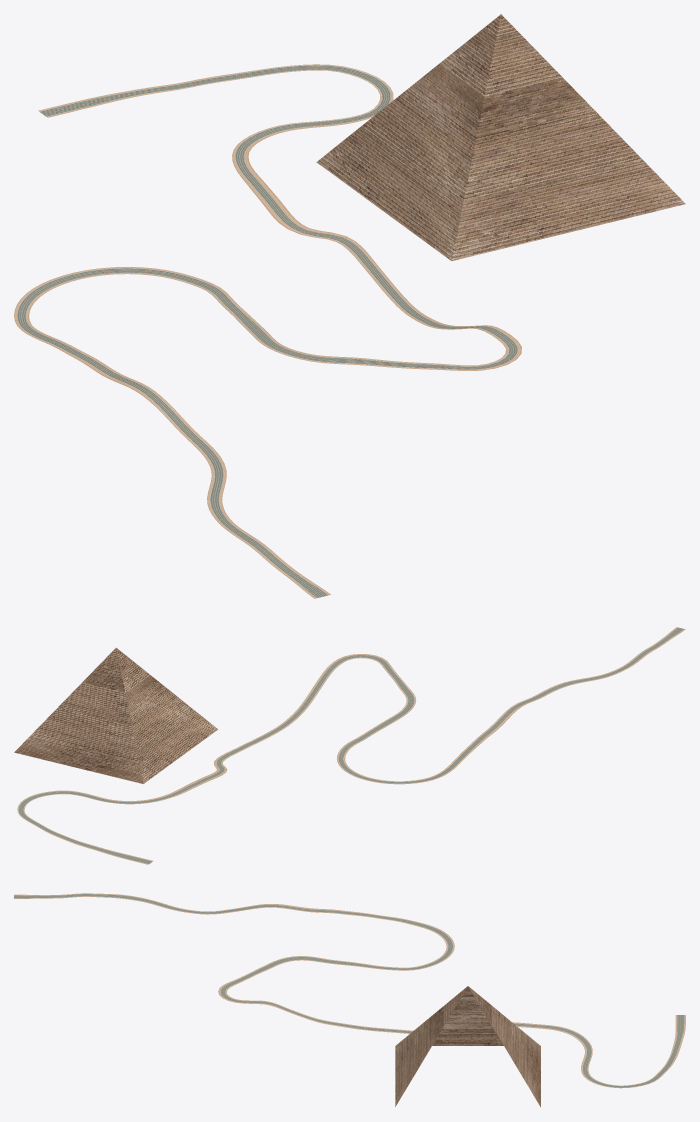
The model's file is stage-dese-env.glb.
3 views of the same model, one above another, from view 1: azimuth 30°, elevation 25°; view 2: azimuth 150°, elevation 25°; view 3: azimuth 270°, elevation 25° (orthographic). The views are drawn at different scales.
Parts seen in each view (by area): view 1: env part 0 chunk 4,-6, env part 0 chunk 2,-4; view 2: env part 0 chunk 4,-6, env part 0 chunk 2,-4; view 3: env part 0 chunk 4,-6, env part 0 chunk 2,-4.
Part boxes in pixels (x1=…): env part 0 chunk 4,-6: x1=316, y1=14, x2=685, y2=260; env part 0 chunk 2,-4: x1=14, y1=64, x2=521, y2=598; env part 0 chunk 4,-6: x1=14, y1=647, x2=217, y2=783; env part 0 chunk 2,-4: x1=17, y1=627, x2=685, y2=864; env part 0 chunk 4,-6: x1=395, y1=986, x2=540, y2=1107; env part 0 chunk 2,-4: x1=14, y1=893, x2=685, y2=1088.
Size of the model in its own units: 1548 by 371 by 2307.
4 materials, 4 textured.
